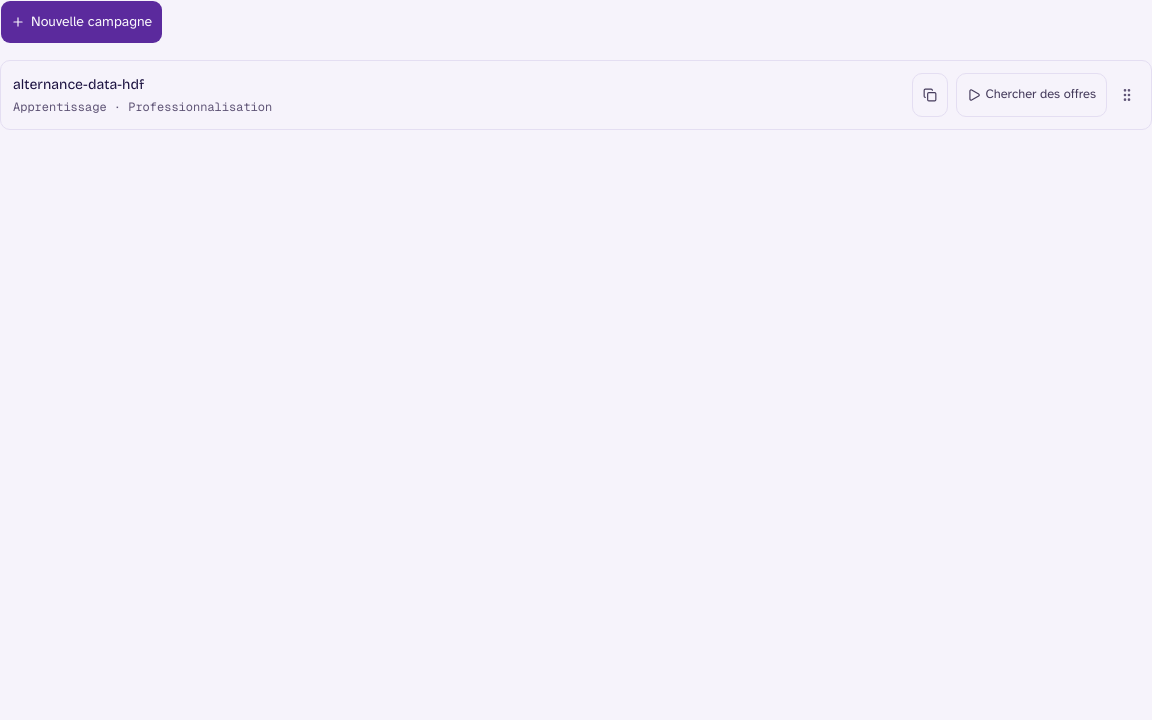
Test case: CampaignsManager › removes a deleted campaign from the list
Step 1. Click the text "alternance-data-hdf" → (79, 85), box [13,75,144,95]
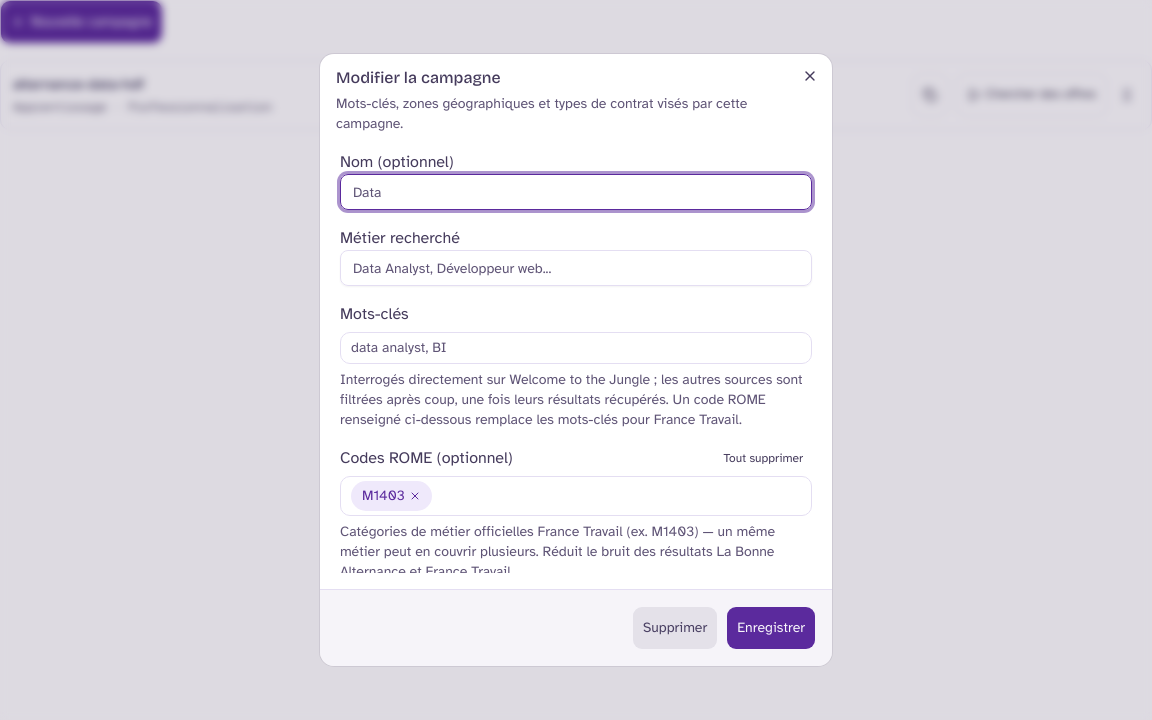
Step 2. Click the button "Supprimer" → (675, 628), box [632,606,718,650]
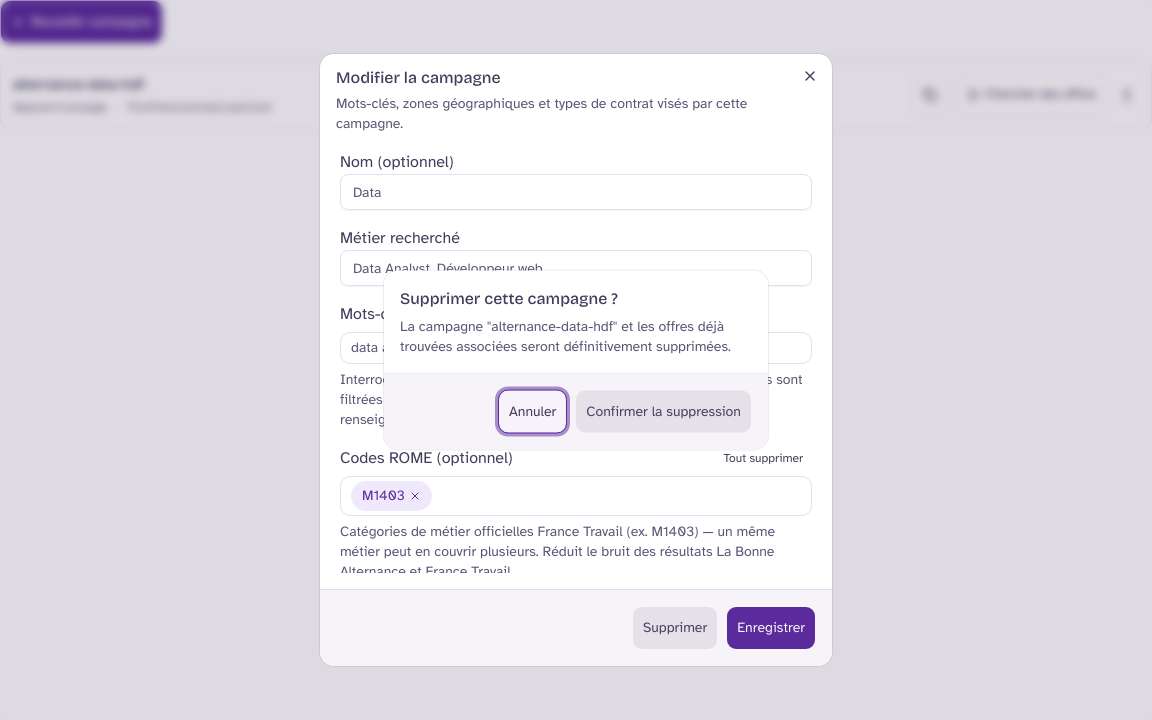
Step 3. Click the button "Confirmer la suppression" → (664, 412), box [575,390,752,434]
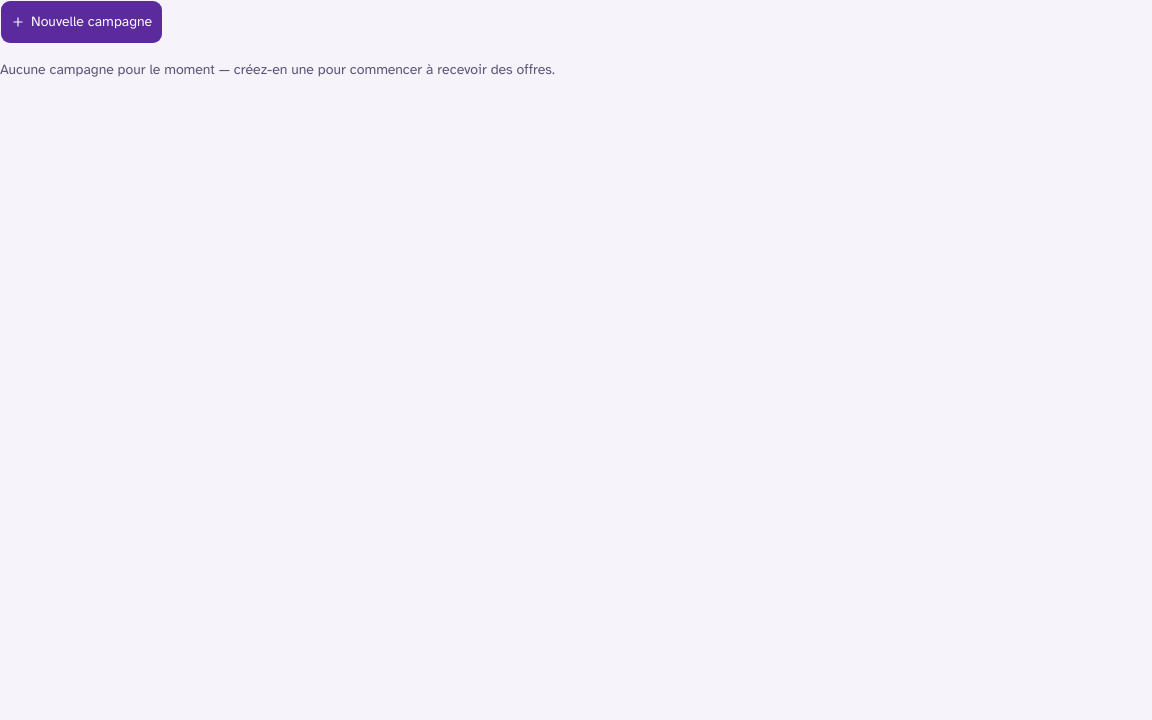
Expected: the text "Aucune campagne pour le moment" is shown, [0,61,555,78]
